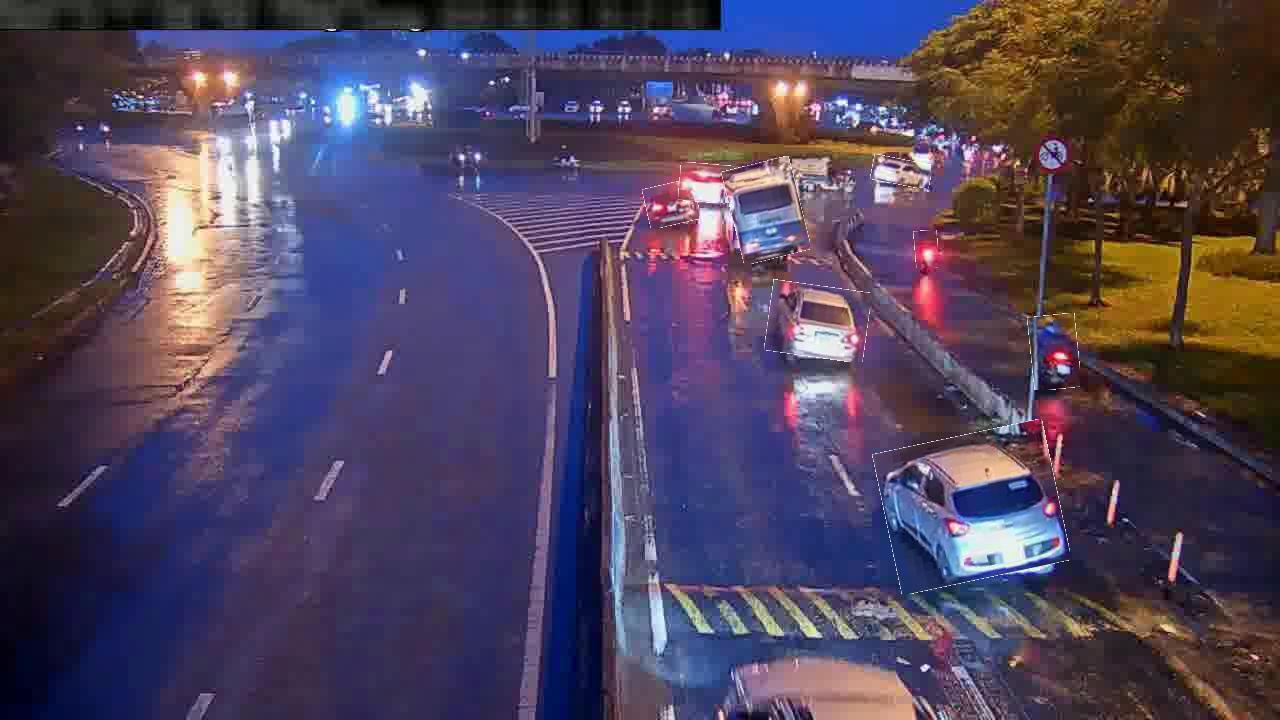14: (727, 160, 806, 262)
container: (879, 427, 1065, 587), (766, 283, 869, 360), (644, 181, 699, 227), (679, 163, 735, 203), (871, 157, 932, 187)
motorbike: (1029, 314, 1080, 390), (914, 231, 939, 269)
